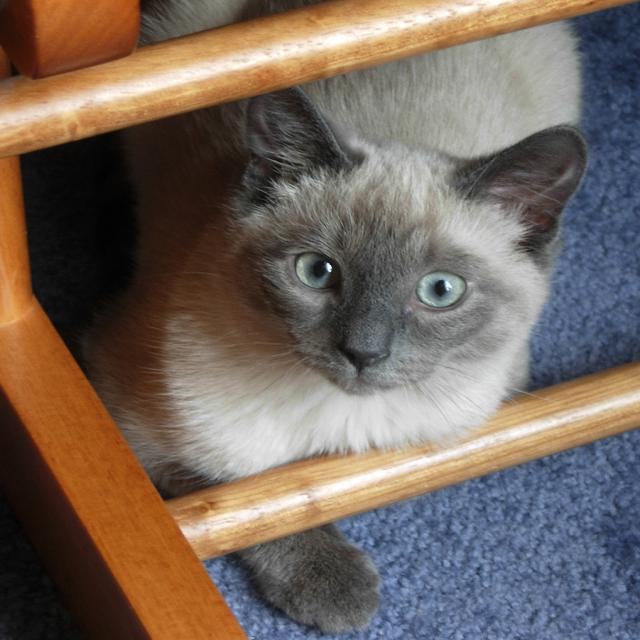cat: (78, 2, 590, 636)
